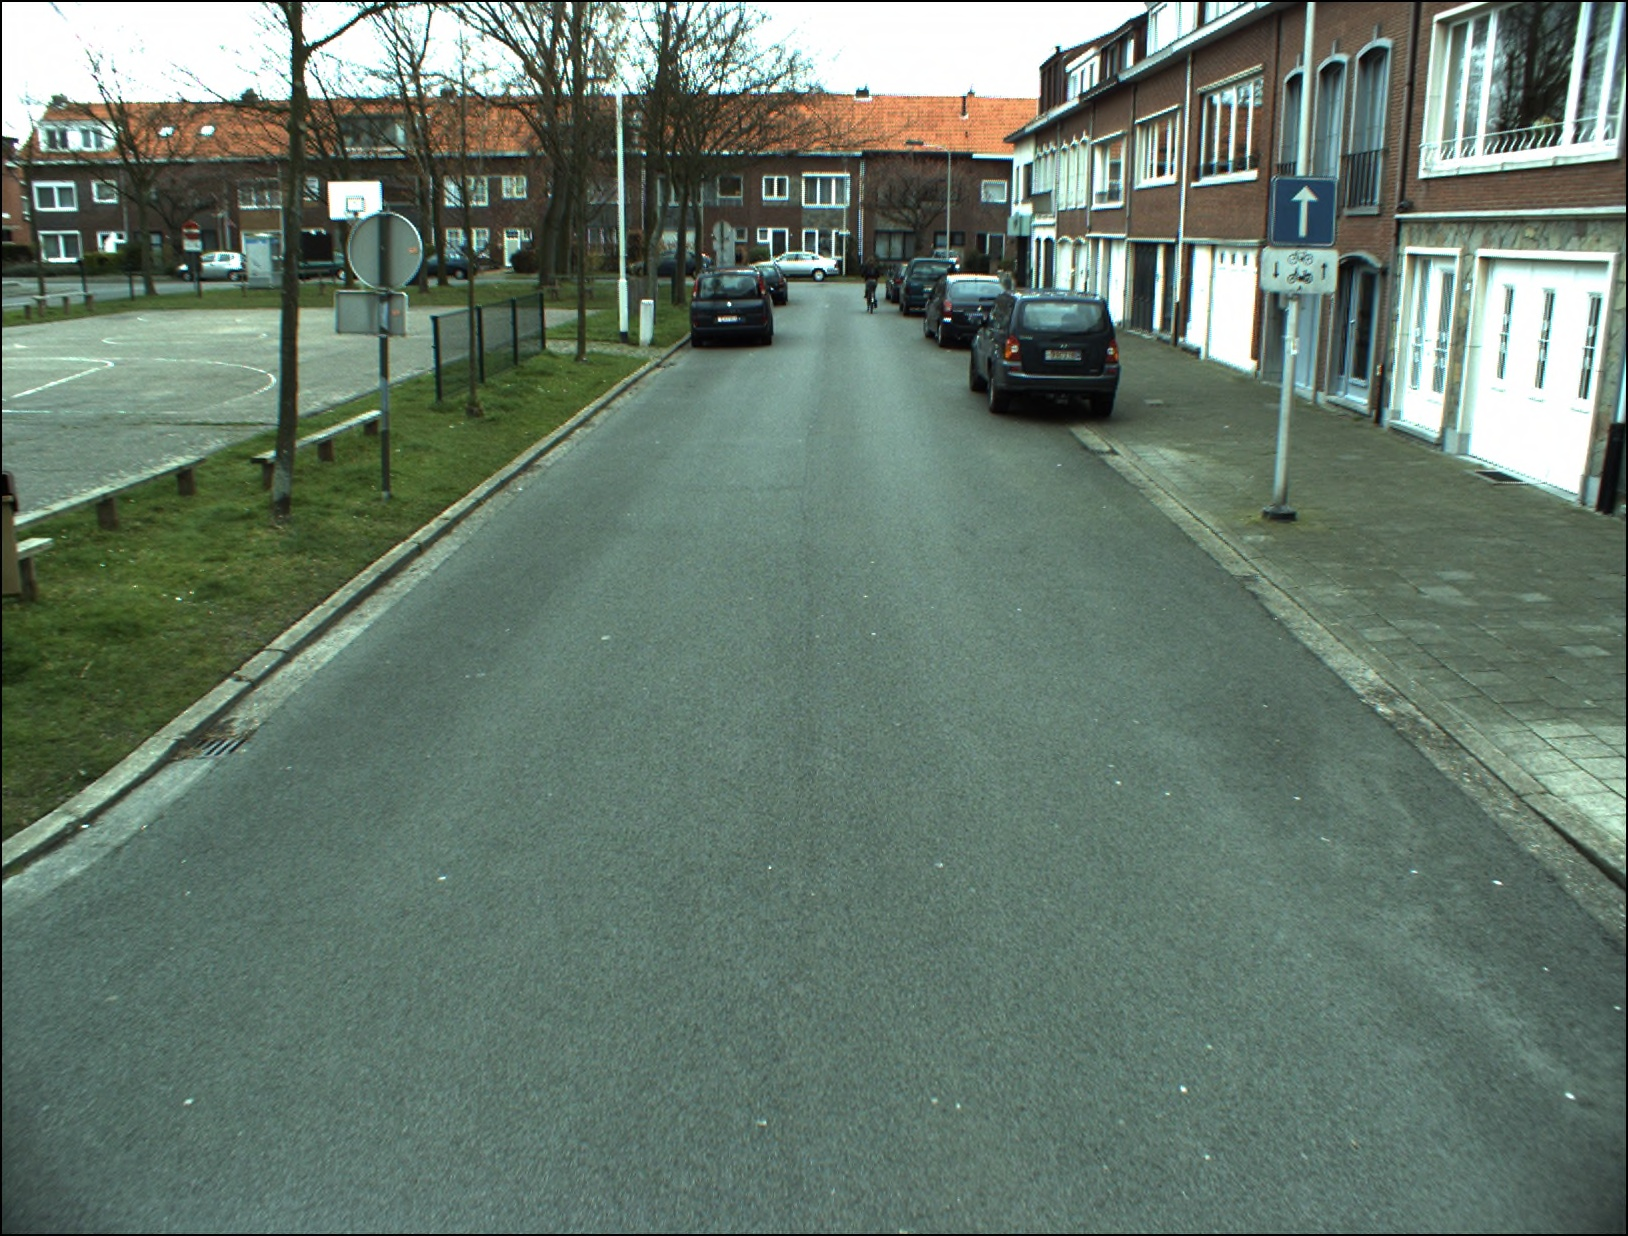oneway: (1271, 180, 1335, 245)
